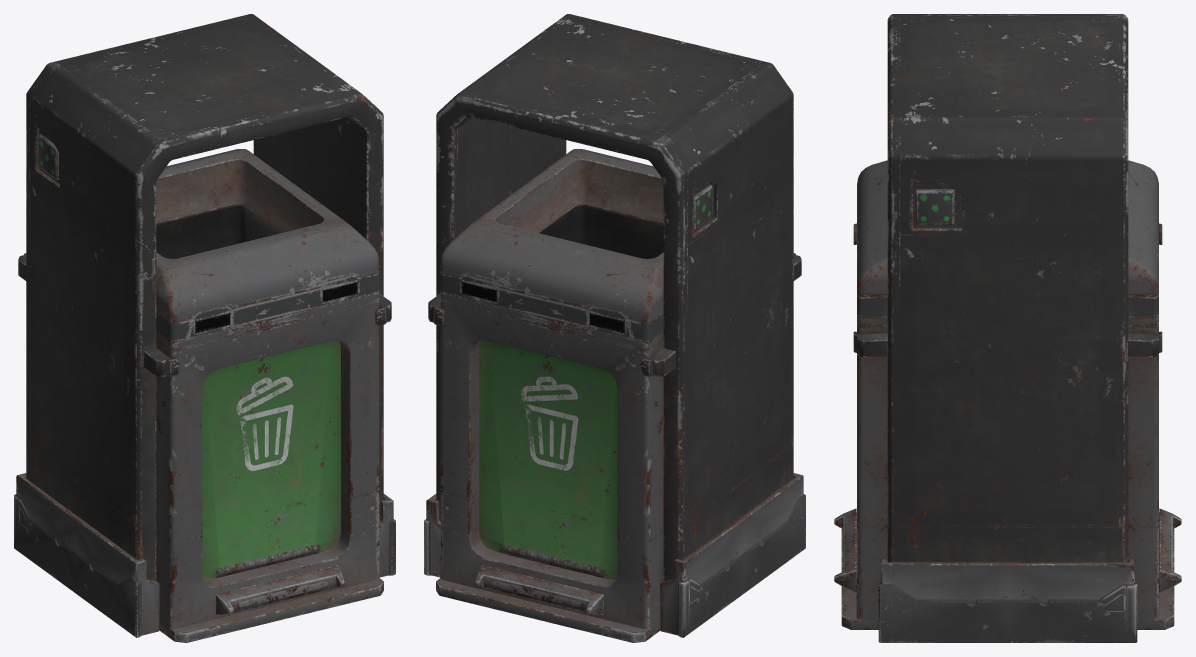
The model's file is trash_can_metal.glb.
3 renders of one model, left to right at view 1: azimuth 30°, elevation 25°; view 2: azimuth 150°, elevation 25°; view 3: azimuth 270°, elevation 25°, orthographic. The views are drawn at different scales.
Parts seen in each view (by area): view 1: TrashCan_Metal; view 2: TrashCan_Metal; view 3: TrashCan_Metal.
Boxes of the visible parts, bbox=[...] form: TrashCan_Metal: bbox=[14, 14, 395, 642]; TrashCan_Metal: bbox=[424, 14, 805, 642]; TrashCan_Metal: bbox=[834, 14, 1181, 642].
Size of the model in its own units: 1.54 by 2.73 by 1.68.
Materials: 1 (1 with a texture image).
